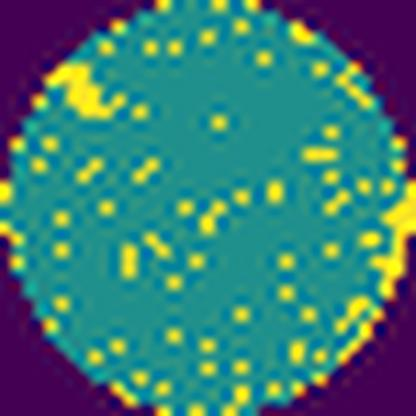Loc: (57, 68, 124, 117)
